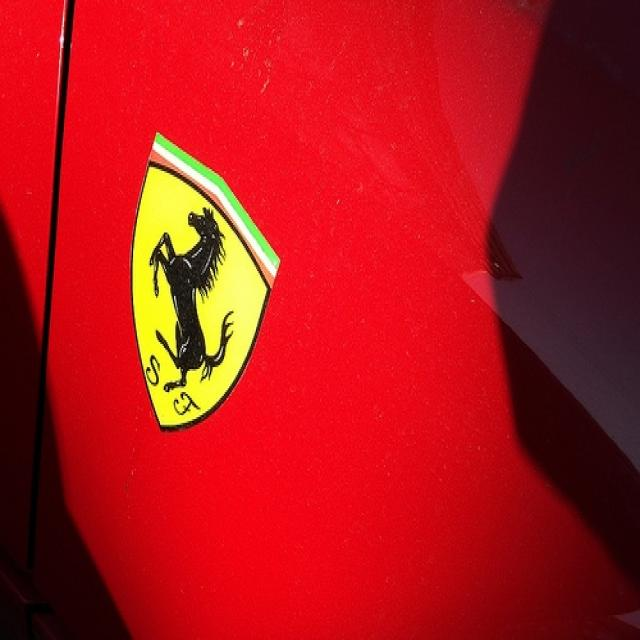ferrari: (129, 132, 284, 432)
